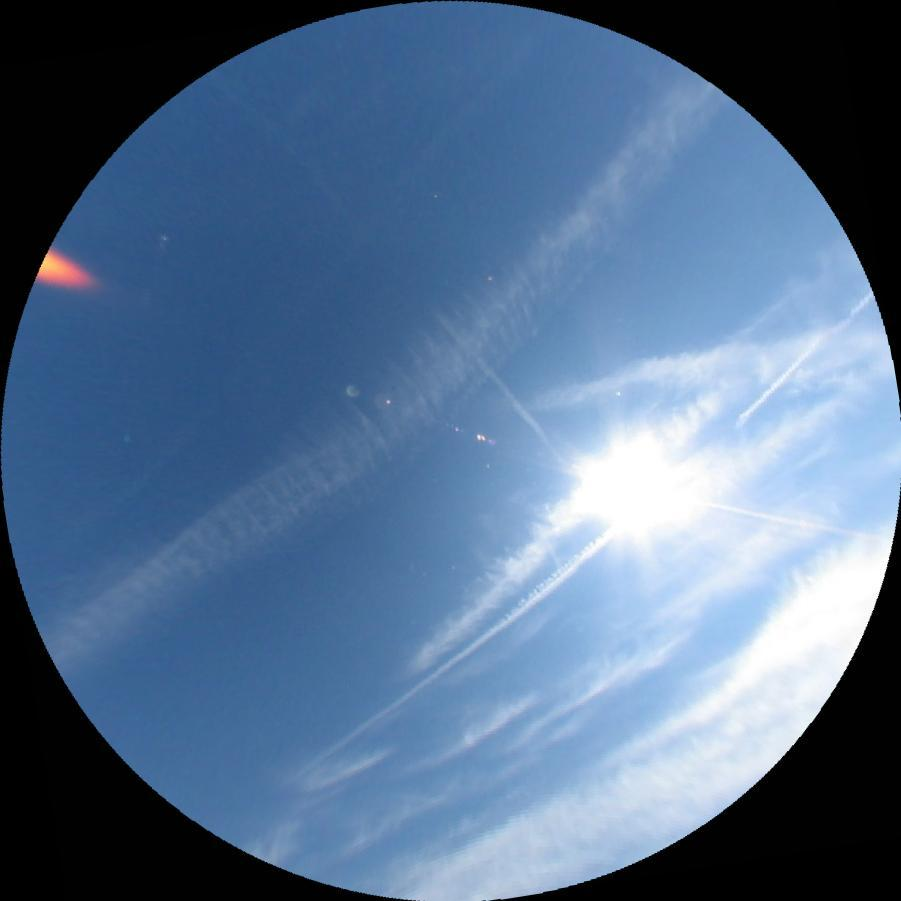contrail old: (288, 289, 887, 797), (434, 309, 568, 464)
contrail veryold: (29, 43, 761, 725), (114, 26, 555, 503), (388, 345, 759, 678), (516, 314, 892, 430)
parasite: (686, 495, 892, 544)
sun: (583, 458, 682, 521)
